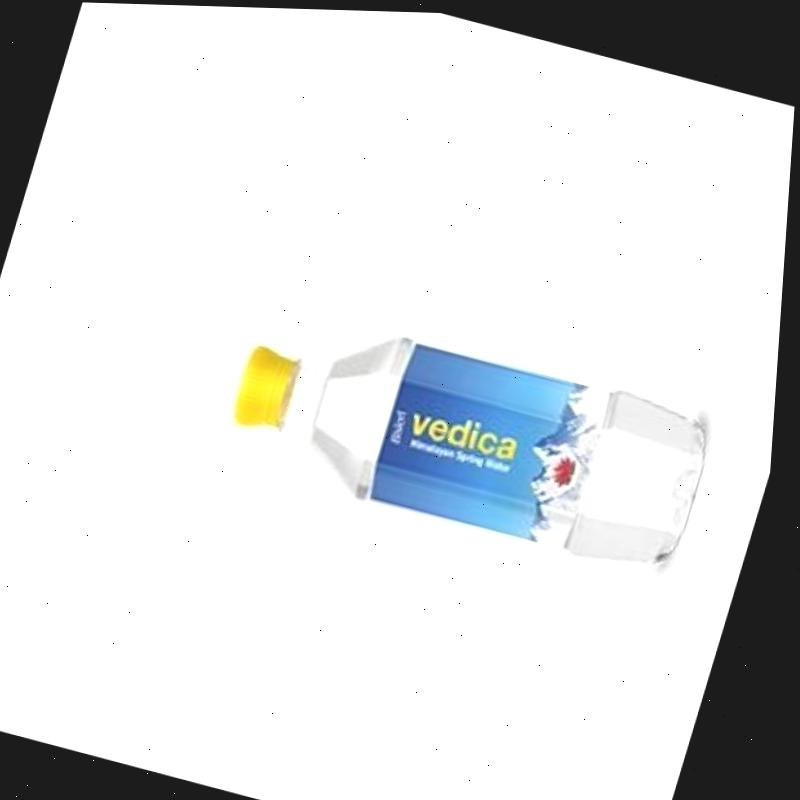botella: (217, 296, 729, 580)
